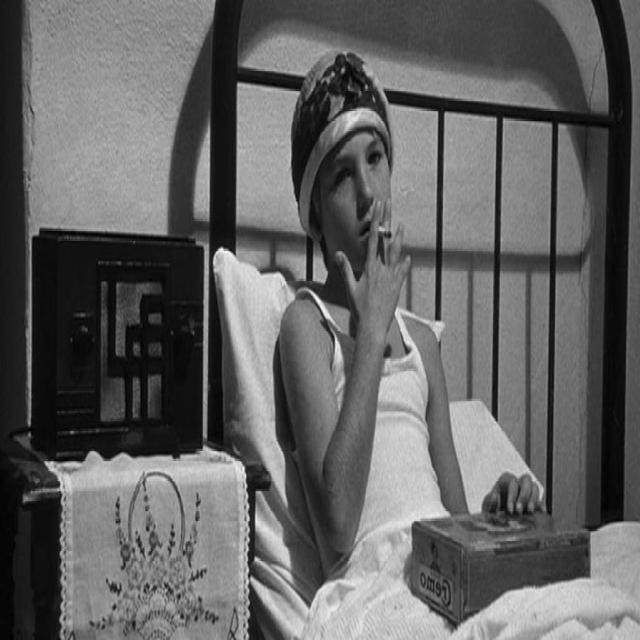smoking: (300, 64, 426, 310)
